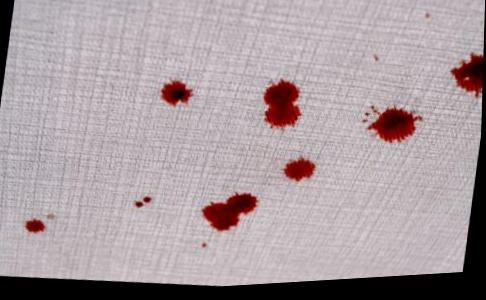Fire: (366, 109, 424, 149), (202, 195, 259, 234), (262, 82, 303, 136), (449, 58, 484, 104), (160, 82, 194, 110), (284, 161, 317, 186), (26, 219, 47, 234), (136, 203, 145, 210), (143, 199, 153, 205)
